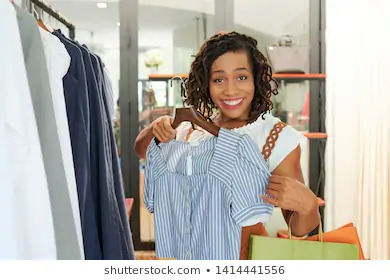C_short blouse: (143, 131, 277, 261)
